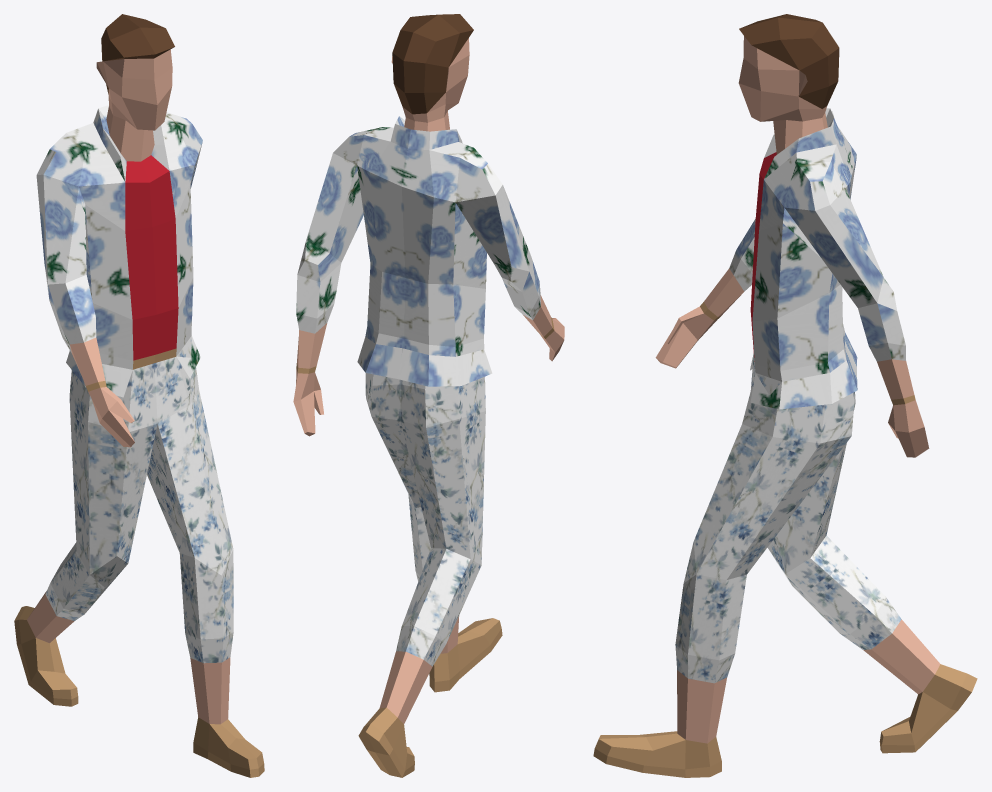
The model's file is SpringManC.003.glb.
The picture shows the model from 3 angles, left to right: view 1: azimuth 30°, elevation 25°; view 2: azimuth 150°, elevation 25°; view 3: azimuth 270°, elevation 25°; orthographic projection. The views are drawn at different scales.
Visible parts, largest first — view 1: SpringManC.003; view 2: SpringManC.003; view 3: SpringManC.003.
Boxes of the visible parts, x1,y1,x2,y2 form: SpringManC.003: (14,14,264,777); SpringManC.003: (293,14,564,777); SpringManC.003: (593,14,977,777).
Size of the model in its own units: 0.4535 by 1.7 by 0.7986.
Materials: 1 (1 with a texture image).
